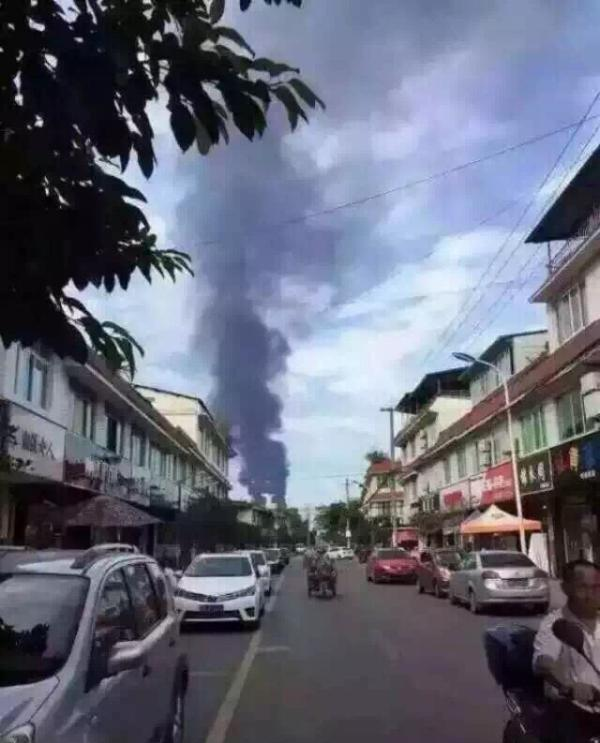dust: (198, 317, 315, 505)
